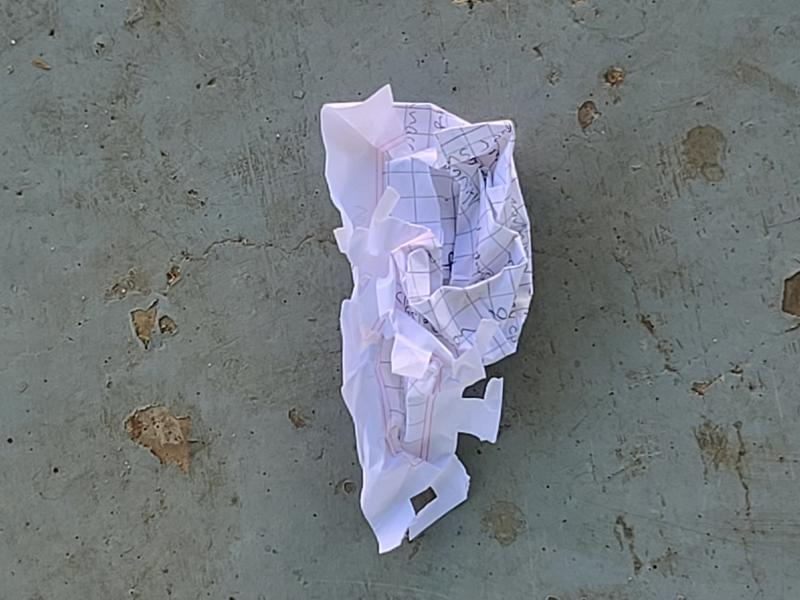papel: (319, 87, 534, 556)
